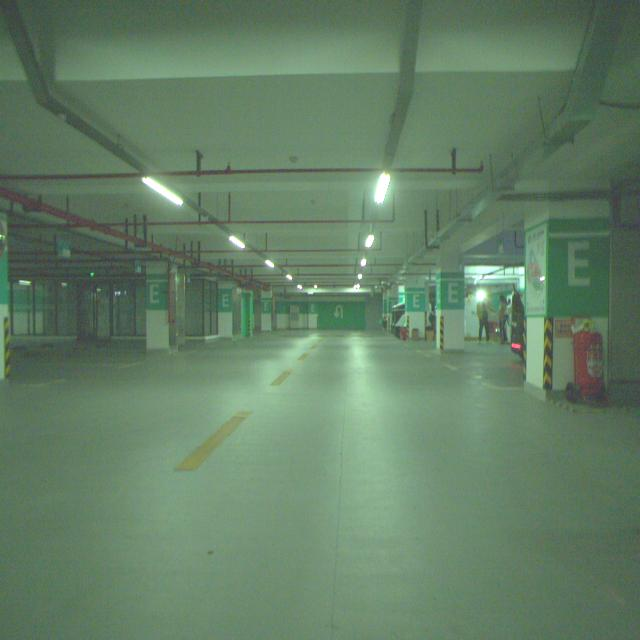pillar: (525, 200, 610, 391), (436, 272, 465, 352)
